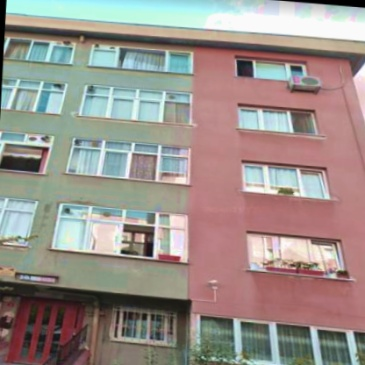door: (15, 301, 71, 365)
